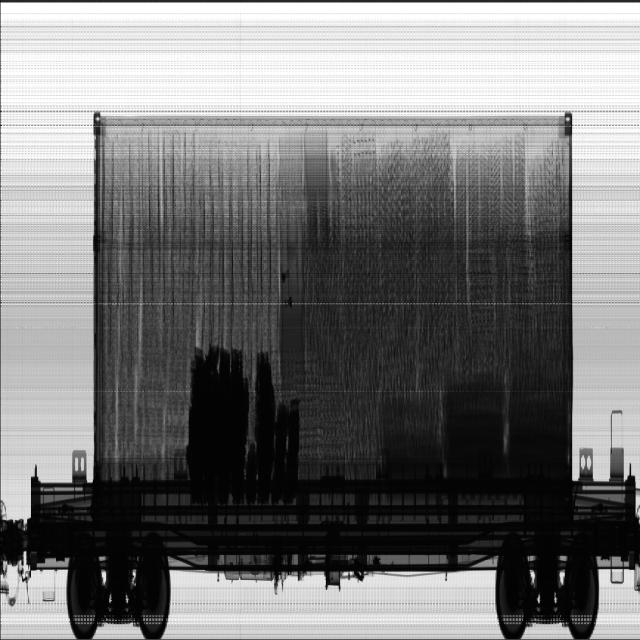shoes: (376, 130, 566, 427), (104, 132, 277, 456)
